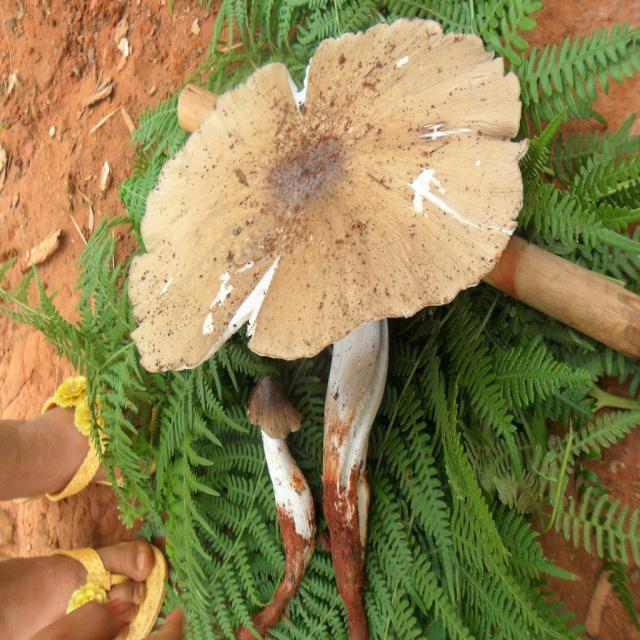Collybia albuminosa: (126, 22, 532, 631), (251, 376, 313, 637)
